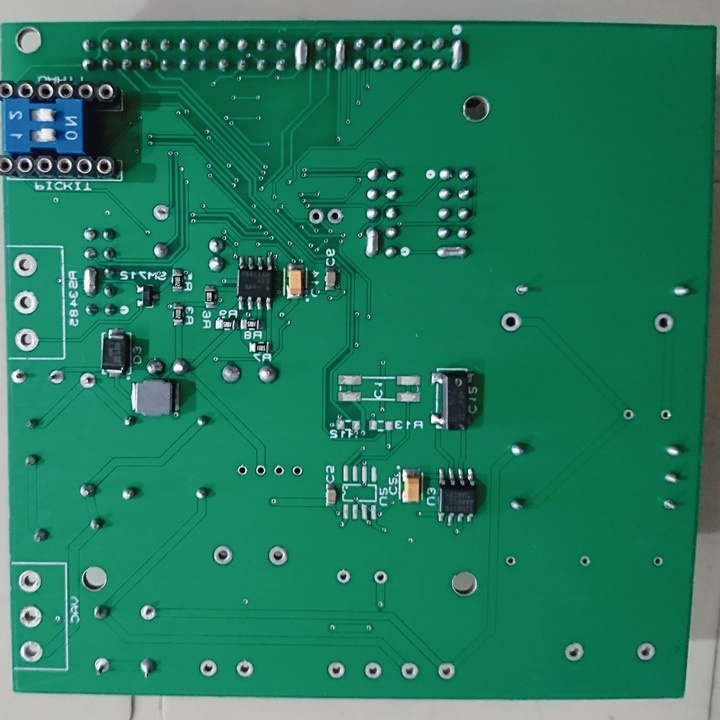F: (11, 289, 41, 318), (16, 567, 44, 597), (16, 638, 46, 666), (16, 603, 45, 630), (12, 250, 39, 278), (210, 543, 237, 569), (13, 327, 36, 354), (91, 654, 113, 681), (653, 311, 676, 335), (501, 311, 522, 337), (564, 640, 587, 663), (266, 546, 290, 568), (78, 369, 99, 394), (635, 640, 657, 663), (45, 366, 67, 388), (198, 658, 219, 679), (436, 660, 456, 681), (234, 660, 256, 679), (10, 365, 28, 388), (150, 202, 171, 221), (400, 661, 419, 682), (138, 603, 156, 625), (364, 661, 382, 682), (511, 280, 530, 299), (327, 660, 345, 680), (327, 207, 347, 224), (661, 497, 680, 514), (373, 568, 388, 589), (307, 209, 324, 226), (336, 567, 351, 585), (621, 406, 636, 422), (236, 463, 250, 480), (290, 463, 304, 479), (659, 406, 673, 422), (579, 554, 592, 569), (271, 465, 285, 478), (504, 556, 518, 569), (255, 463, 267, 478), (652, 555, 664, 569)
P: (433, 244, 470, 263), (79, 265, 100, 298), (292, 35, 309, 74), (450, 36, 467, 75), (332, 35, 348, 74), (363, 226, 379, 262)
